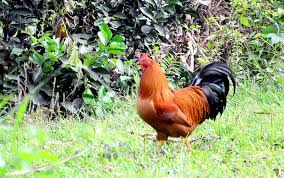Gà/Chicken: (126, 41, 242, 160)
